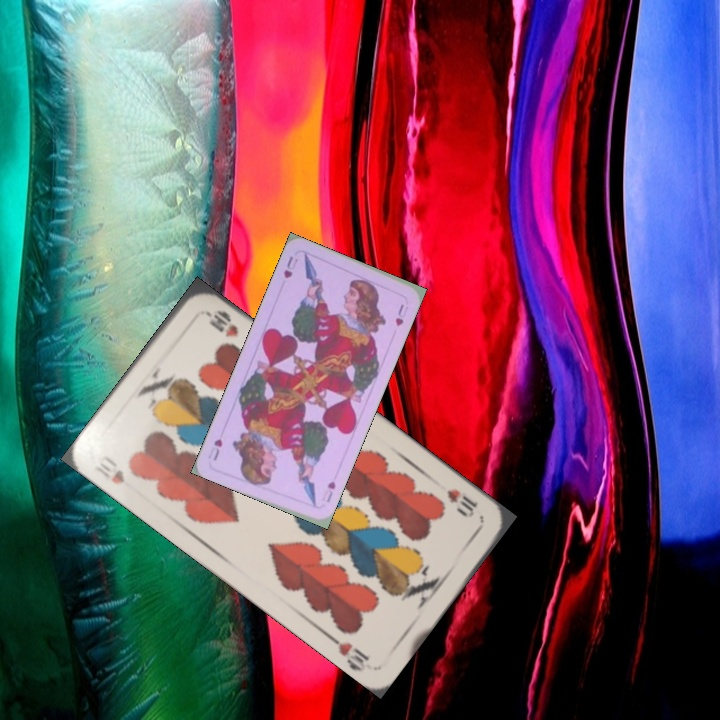H10: (442, 484, 481, 521), (91, 458, 128, 487)
HU: (318, 477, 338, 505), (279, 252, 296, 281)
